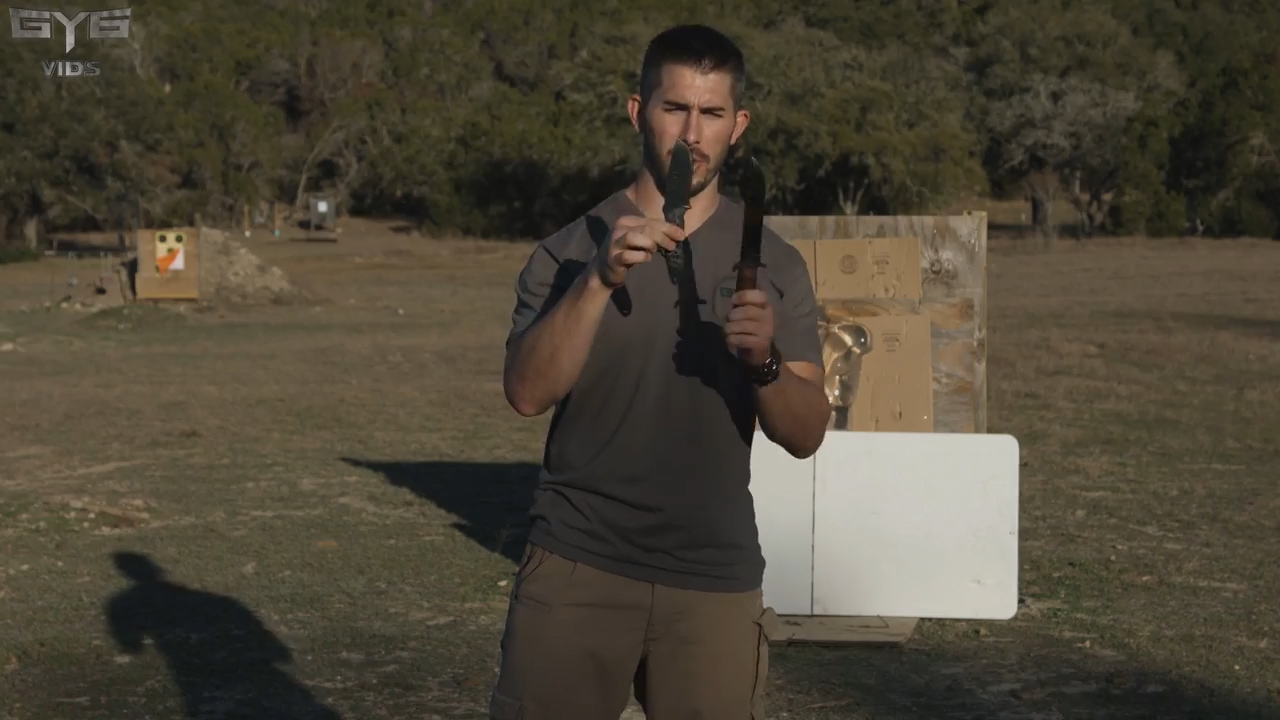knife: (712, 147, 780, 361), (633, 127, 697, 273)
